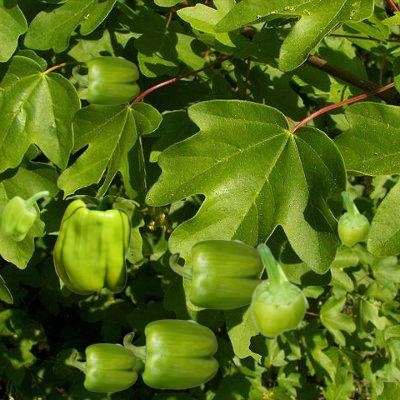bell_pepper: (53, 195, 138, 293), (123, 319, 217, 388), (169, 239, 263, 308), (250, 243, 306, 337), (70, 343, 136, 391), (72, 56, 138, 104), (1, 190, 48, 240), (337, 191, 369, 245)
